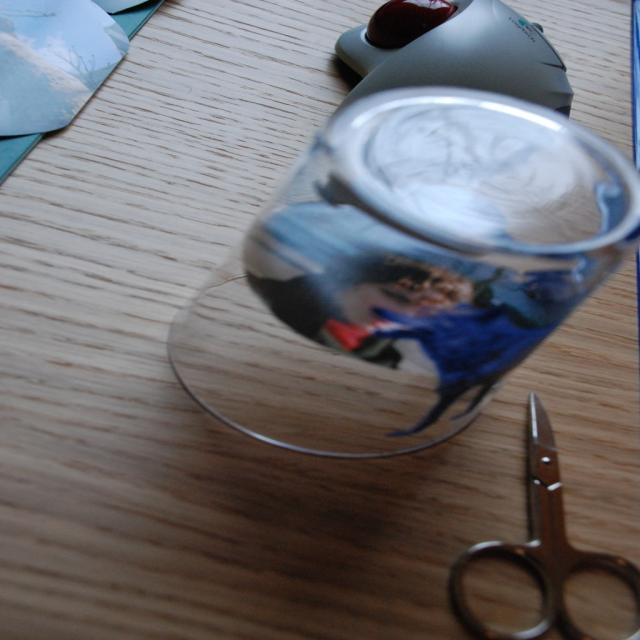scissors: (446, 391, 638, 639)
